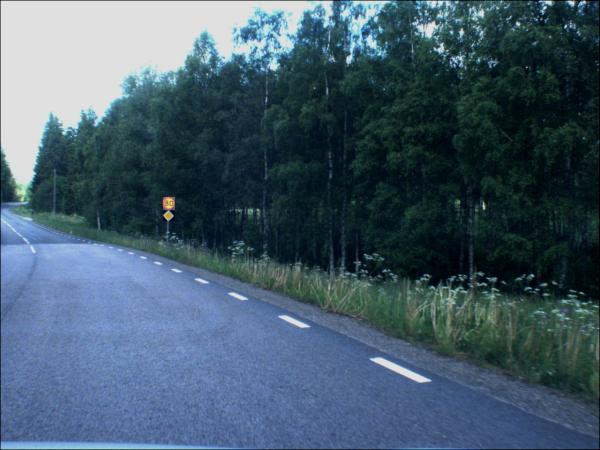80_SIGN: (164, 198, 177, 212)
PRIORITY_ROAD: (164, 212, 177, 223)
